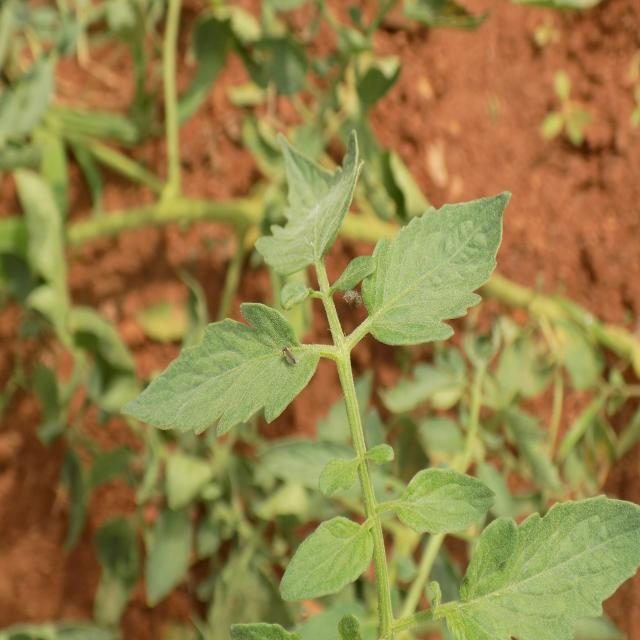tomato_healthy: (125, 305, 324, 440), (365, 181, 518, 351), (252, 126, 362, 278), (274, 512, 376, 608), (390, 464, 493, 538)
